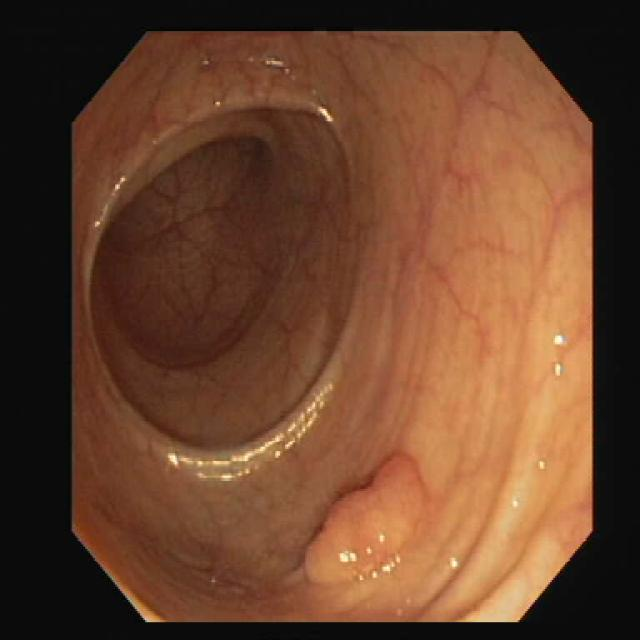tumor: (307, 460, 425, 582)
